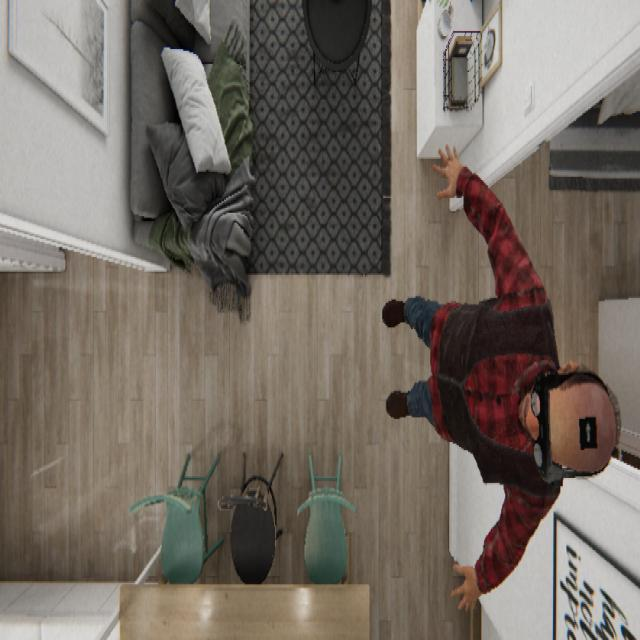Human: (381, 141, 621, 612)
UnityLogo: (577, 411, 598, 450)
